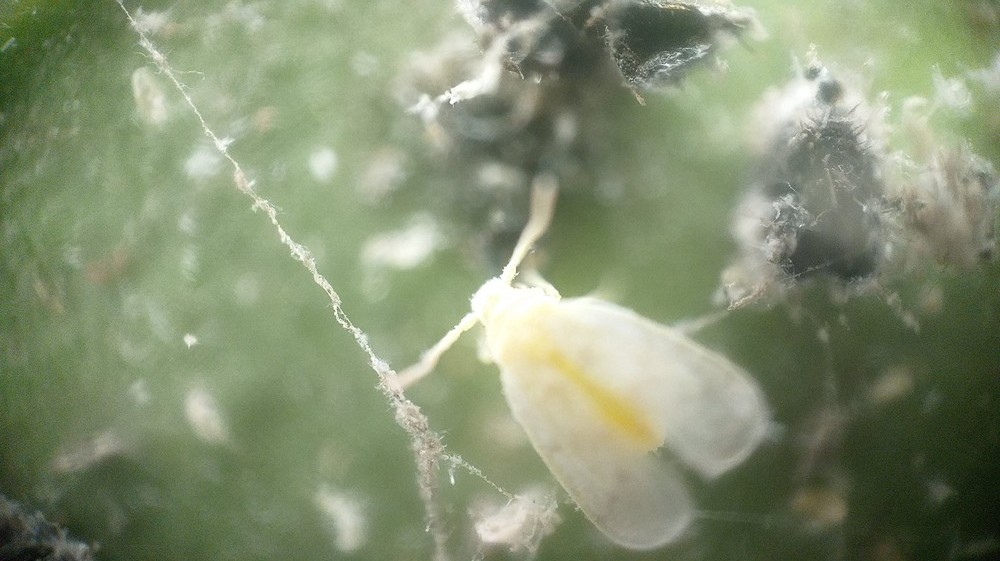Mosca Blanca: (377, 174, 794, 561)
